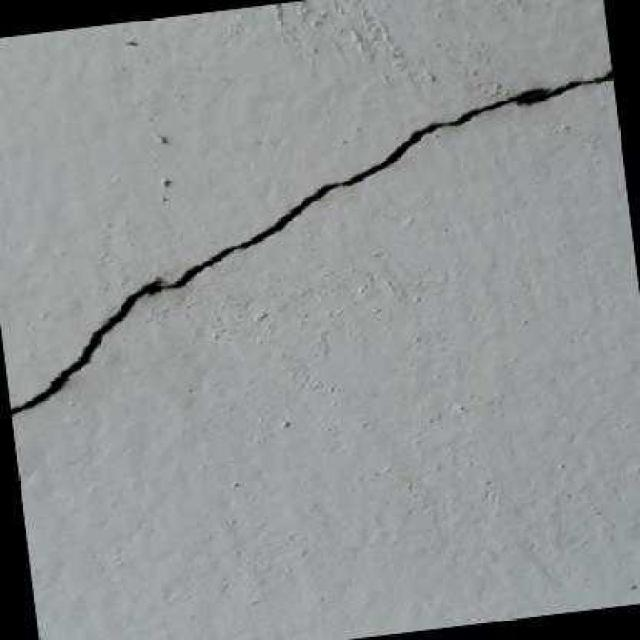D00: (8, 69, 613, 415)
